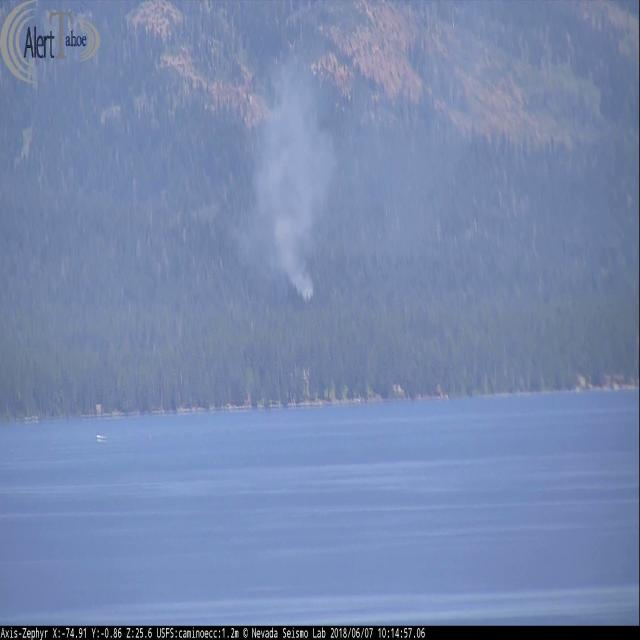smoke: (240, 49, 350, 304)
